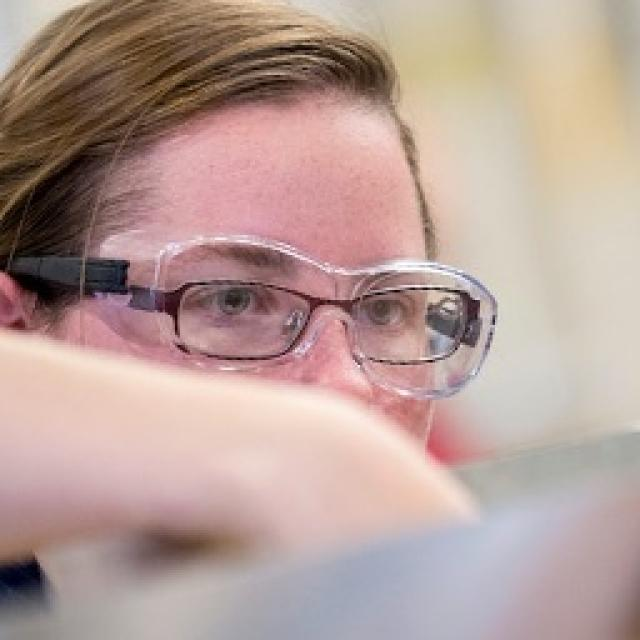glasses: (32, 214, 514, 405)
